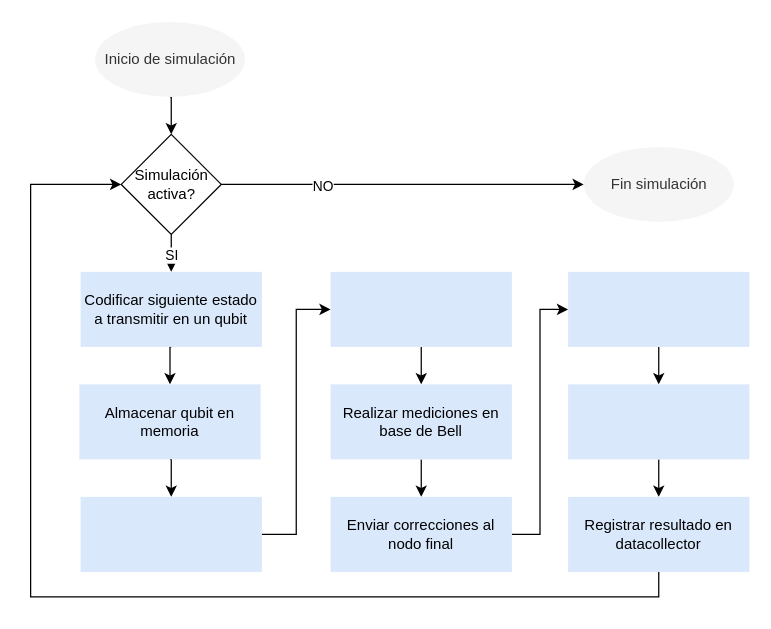
Some shapes in this 771 by 629 pixel diagram are drawn without their labels. The shapes that lost their labels are listed below. From the top down, each one's centre as x and y in pixels, then its label:
At point (420, 308): "Esperar a que el par esté disponible".
At point (658, 308): "Esperar a finalización protocolo de Teleportación".
At point (658, 421): "Medir estado original y teleportado en base Z y comprobar si coinciden".
At point (170, 533): "Solicitar un par entrelazado al RouteProtocol del path".
